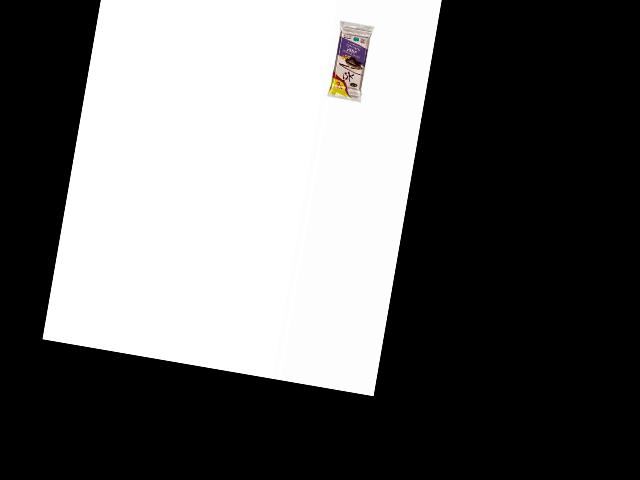chocolate: (325, 19, 376, 104)
